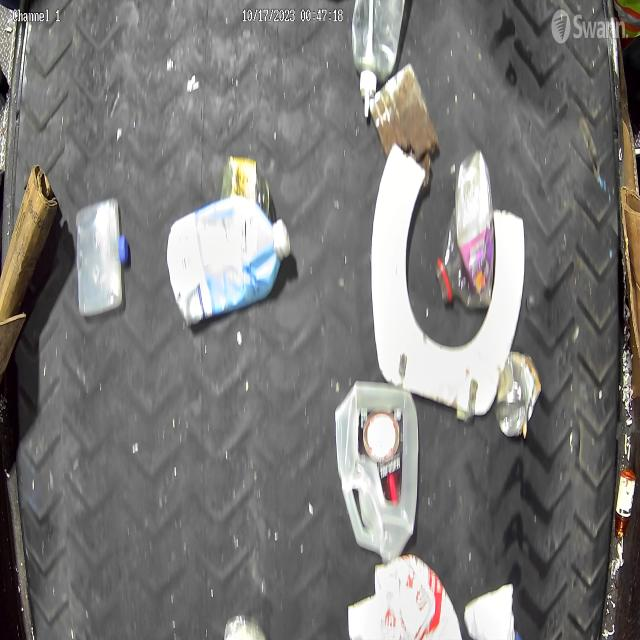can: (496, 352, 542, 442)
milk_jug: (335, 375, 423, 563)
non_white_jug: (169, 198, 289, 323)
plastic_bottle: (434, 152, 494, 310)
